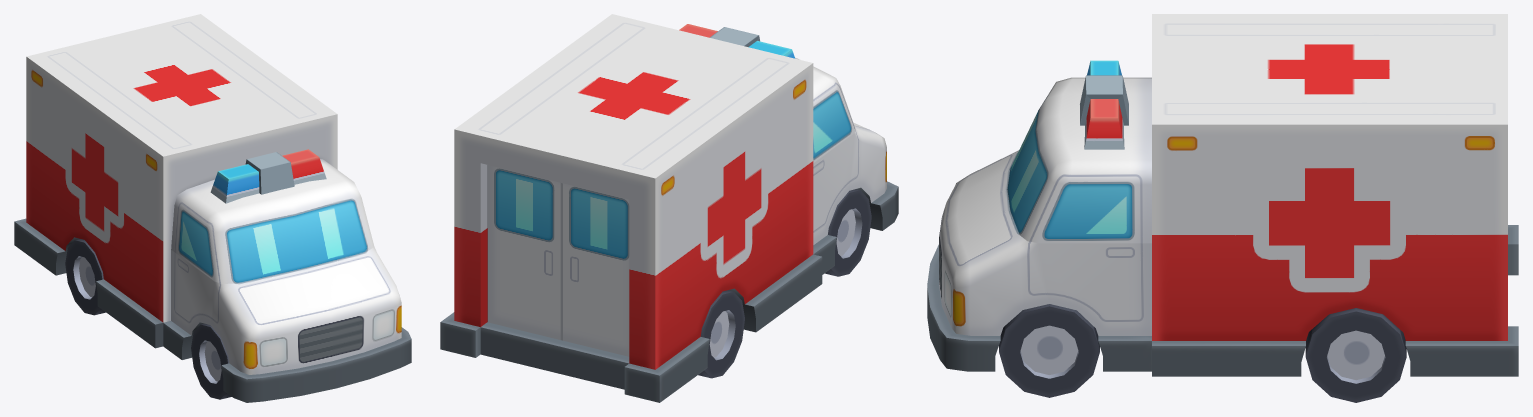
The model's file is ambulance.FBX.
The picture shows the model from 3 angles, left to right: view 1: azimuth 30°, elevation 25°; view 2: azimuth 150°, elevation 25°; view 3: azimuth 270°, elevation 25°; orthographic projection. The views are drawn at different scales.
Visible parts, largest first — view 1: ambulance_body, ambulance_lights, ambulance_tire_back_right, ambulance_tire_front_right; view 2: ambulance_body, ambulance_tire_back_right, ambulance_tire_front_right, ambulance_lights; view 3: ambulance_body, ambulance_tire_back_left, ambulance_tire_front_left, ambulance_lights.
Boxes of the visible parts, x1,y1,x2,y2 form: ambulance_body: (14,14,411,402); ambulance_lights: (210,149,326,203); ambulance_tire_back_right: (65,239,105,315); ambulance_tire_front_right: (191,323,231,399); ambulance_body: (440,14,898,402); ambulance_tire_back_right: (698,290,744,378); ambulance_tire_front_right: (825,189,871,276); ambulance_lights: (679,24,795,58); ambulance_body: (927,14,1518,376); ambulance_tire_back_left: (1305,308,1406,402); ambulance_tire_front_left: (999,304,1099,397); ambulance_lights: (1080,60,1128,149).
Size of the model in its own units: 83.96 by 90.12 by 174.
